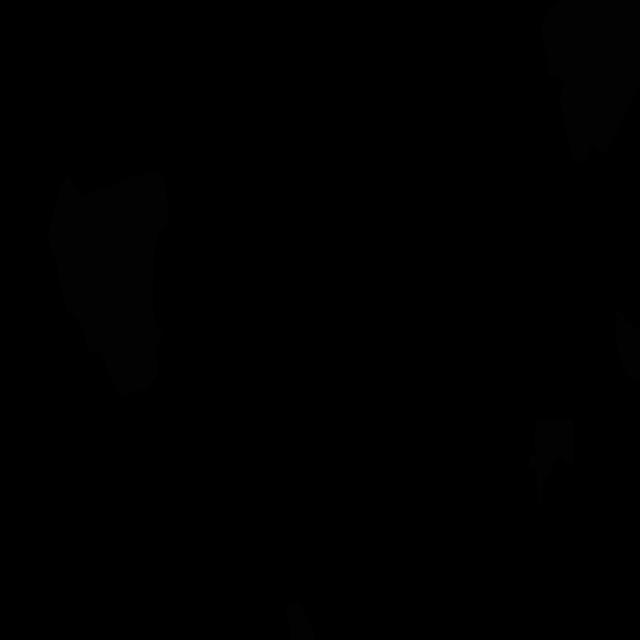cardboard: (55, 172, 169, 396), (541, 0, 640, 162), (528, 419, 573, 511), (48, 173, 80, 259), (615, 307, 640, 382), (286, 601, 316, 640)
